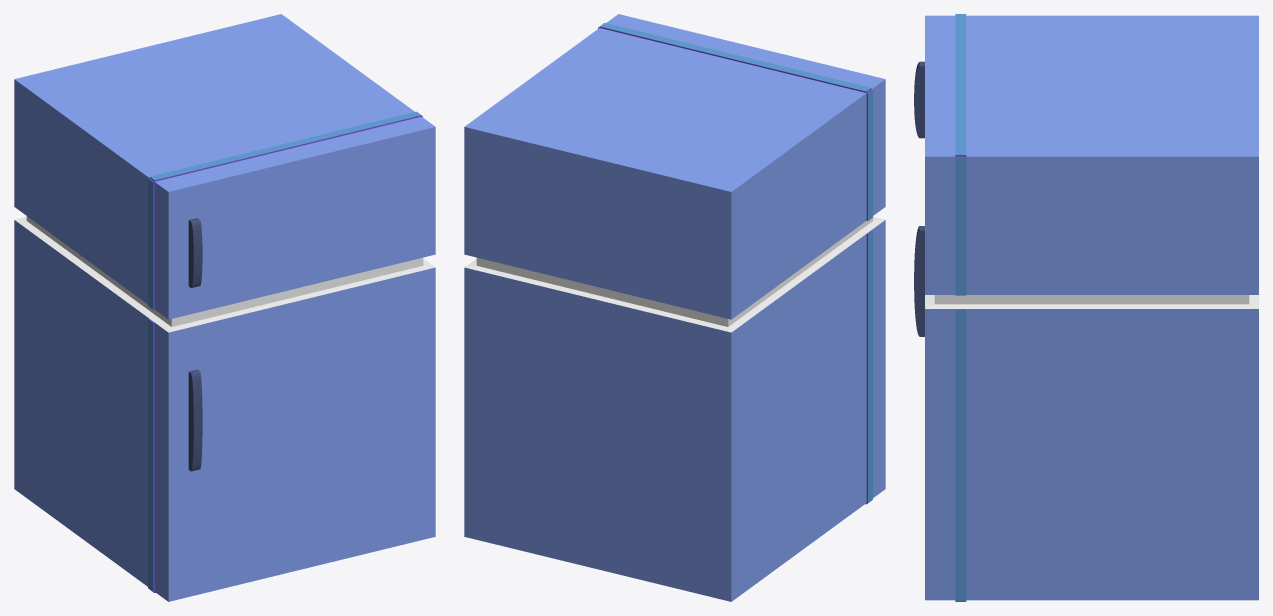
Rendered from Res01_Fridge.fbx.
The picture shows the model from 3 angles, left to right: view 1: azimuth 30°, elevation 25°; view 2: azimuth 150°, elevation 25°; view 3: azimuth 270°, elevation 25°; orthographic projection. The views are drawn at different scales.
Parts seen in each view (by area): view 1: Res01_Fridge; view 2: Res01_Fridge; view 3: Res01_Fridge.
Part boxes in pixels (x1,y1,x2,y2): Res01_Fridge: [14, 14, 435, 601]; Res01_Fridge: [464, 14, 885, 601]; Res01_Fridge: [914, 14, 1258, 601].
Size of the model in its own units: 152 by 222 by 155.
